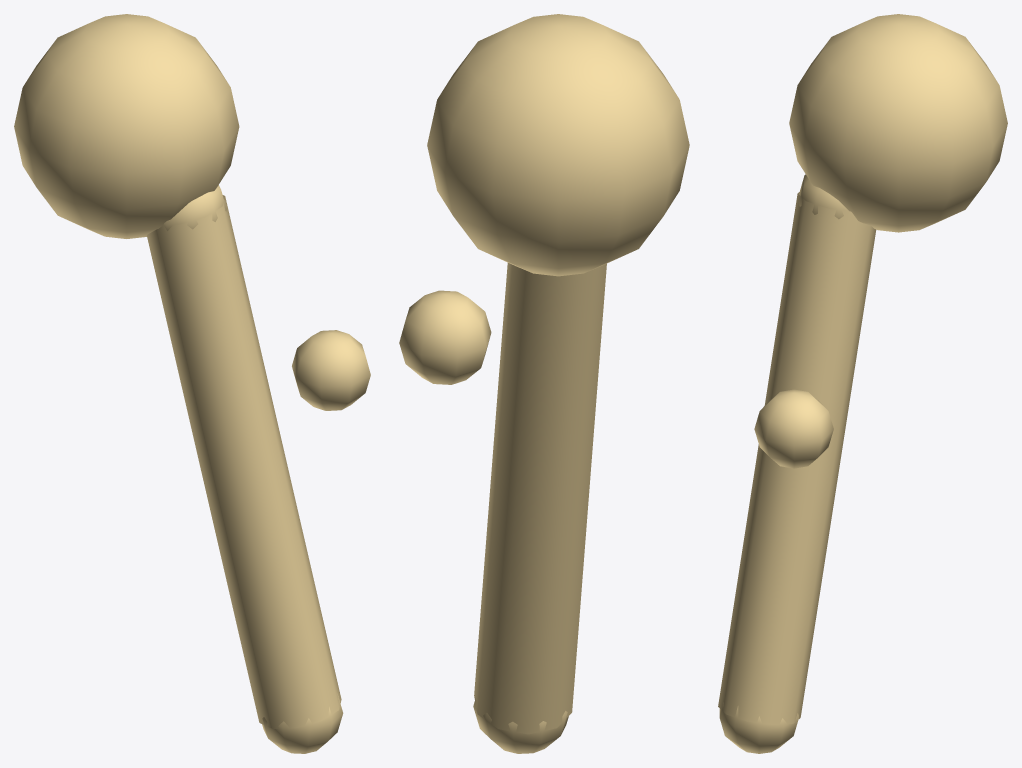
The model's file is malleus.glb.
3 renders of one model, left to right at view 1: azimuth 30°, elevation 25°; view 2: azimuth 150°, elevation 25°; view 3: azimuth 270°, elevation 25°, orthographic. The views are drawn at different scales.
Visible parts, largest first — view 1: SAMPLE malleus; view 2: SAMPLE malleus; view 3: SAMPLE malleus.
Boxes of the visible parts, bbox=[...] form: SAMPLE malleus: bbox=[14, 14, 370, 753]; SAMPLE malleus: bbox=[399, 14, 689, 753]; SAMPLE malleus: bbox=[718, 14, 1007, 753].
Size of the model in its own units: 3.2 by 7.52 by 2.92.
